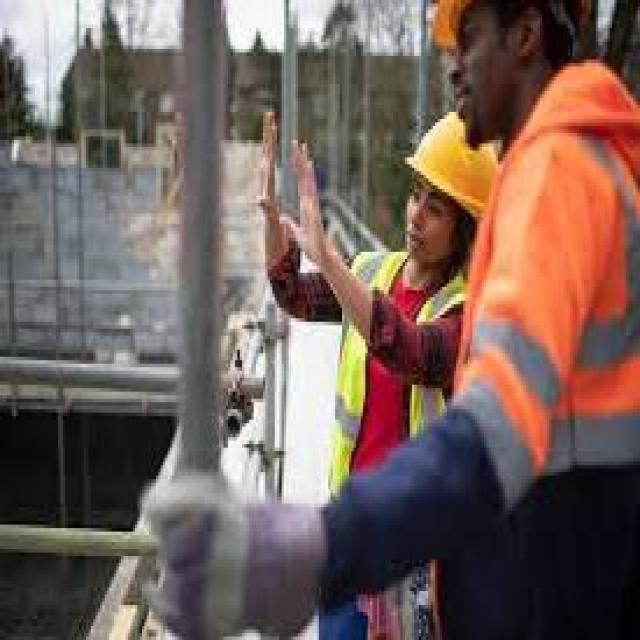Reflective-Jacket: (452, 91, 638, 486), (316, 241, 475, 539)
Safety-Helmet: (396, 105, 493, 231)
